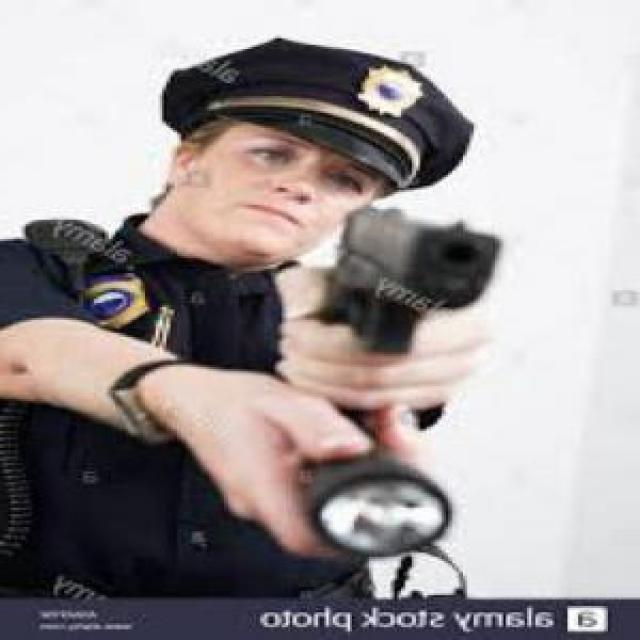pistol: (310, 198, 516, 369)
